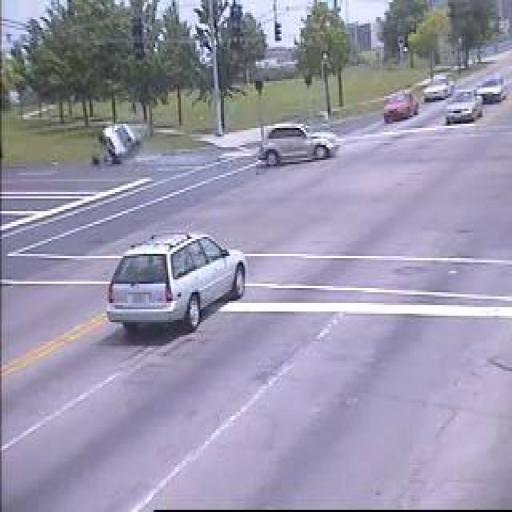Car: (108, 234, 250, 330), (261, 121, 338, 166), (100, 122, 140, 168), (444, 89, 482, 124), (384, 91, 420, 122), (475, 74, 507, 104), (421, 74, 454, 102)
Major Accident: (95, 116, 342, 172)
